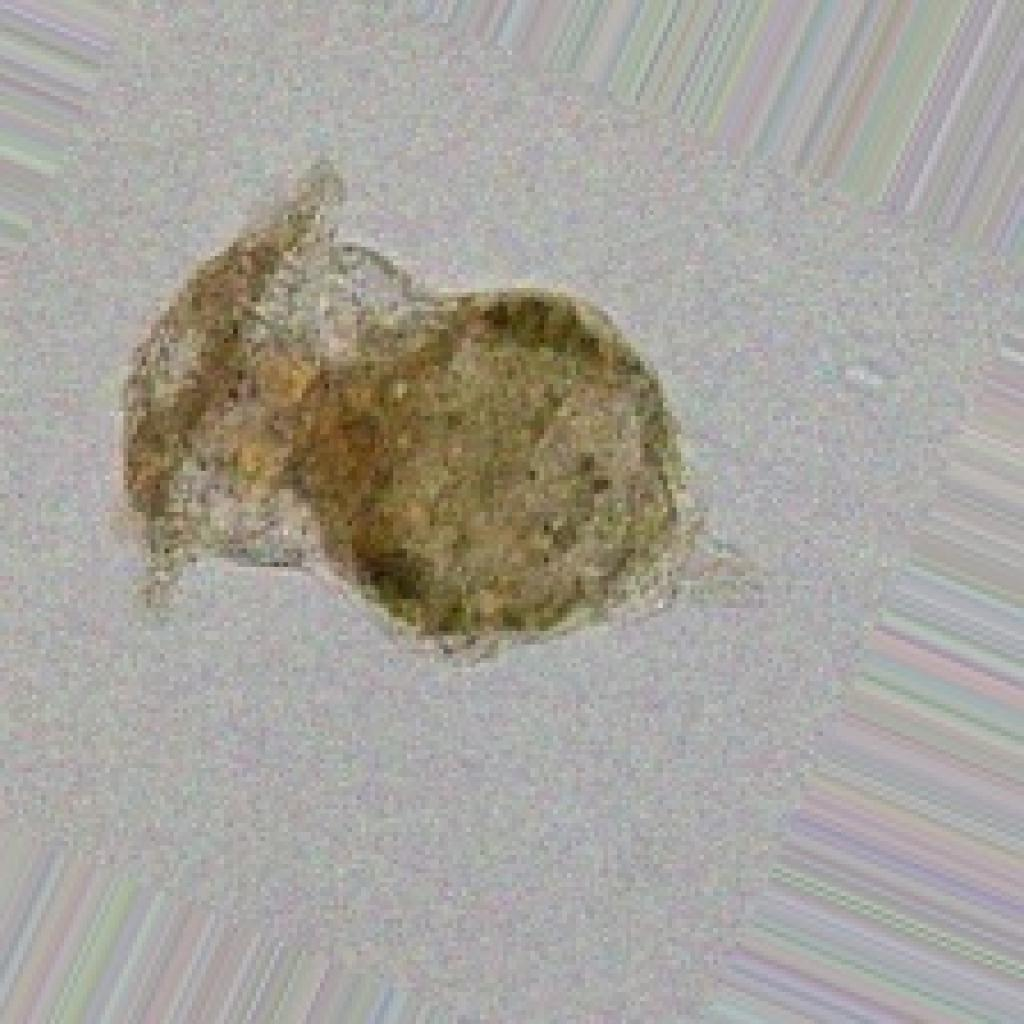Rotifer: (114, 155, 695, 663)
